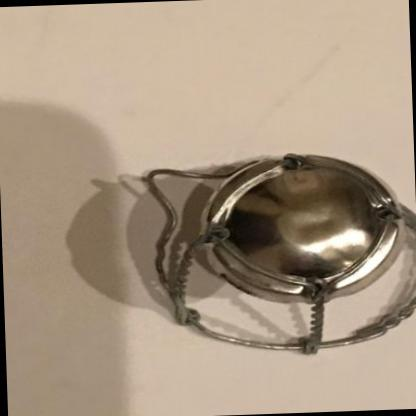Metal: (145, 154, 416, 355)
